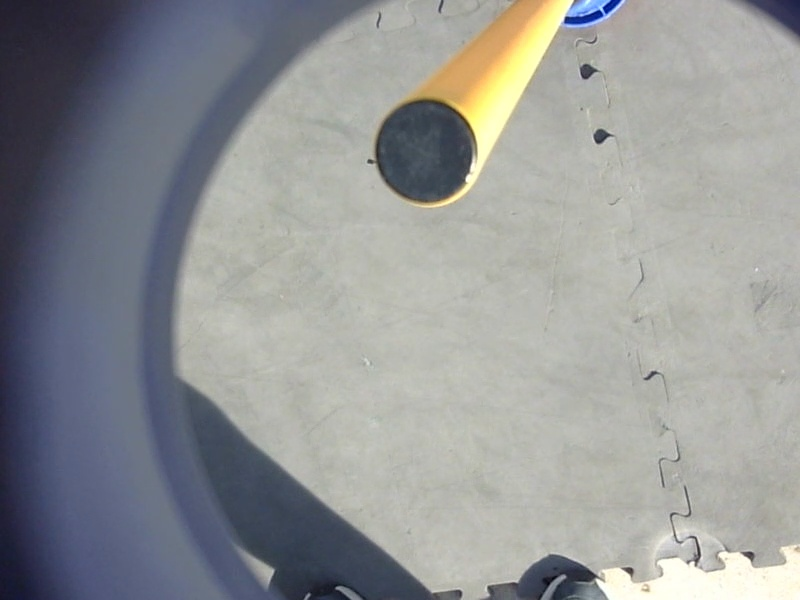tip: (370, 91, 489, 212)
